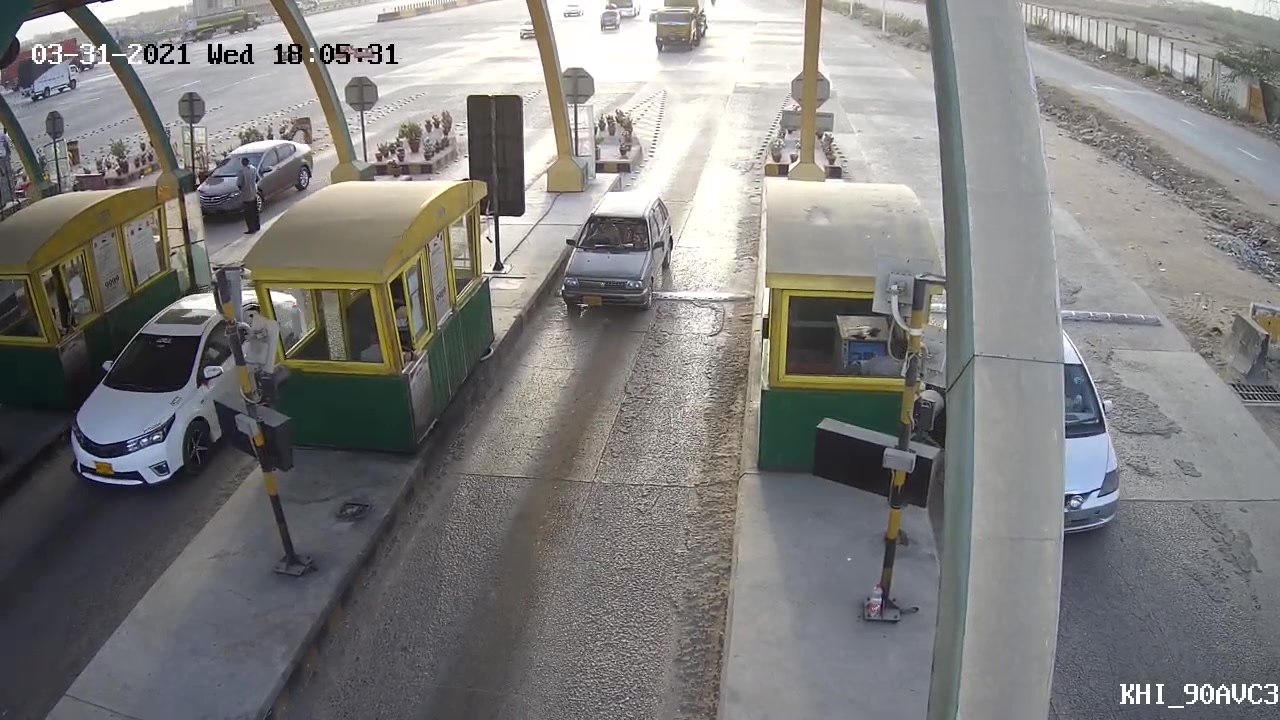F1: (548, 189, 681, 321)
